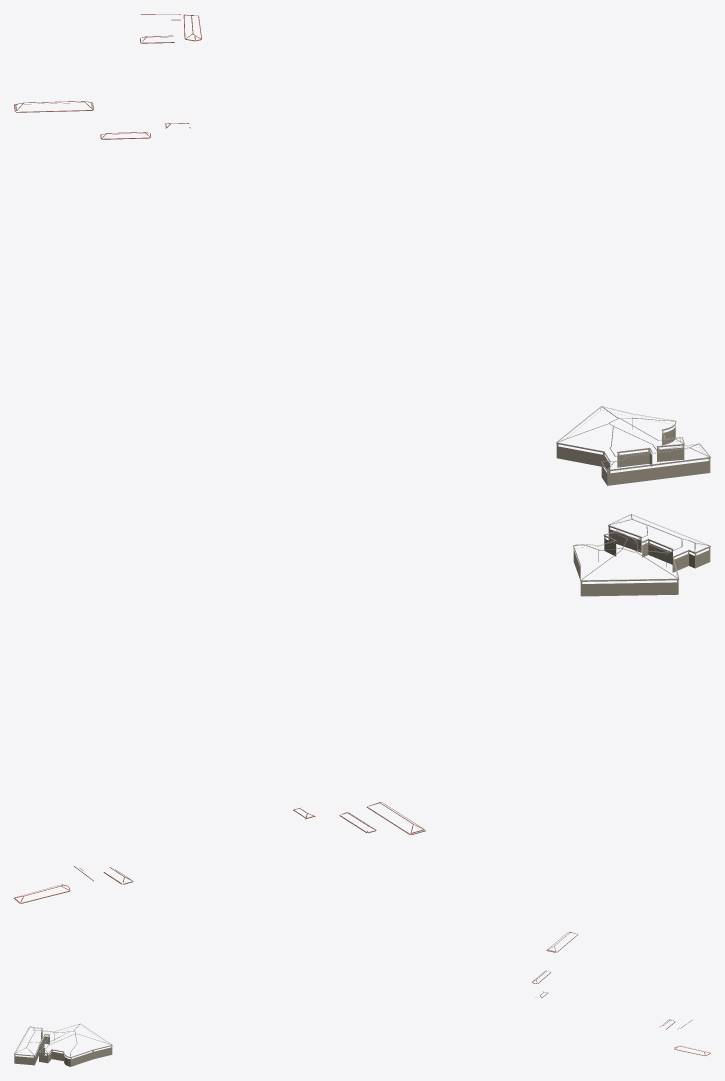
3 renders of one model, top to bottom at view 1: azimuth 30°, elevation 25°; view 2: azimuth 150°, elevation 25°; view 3: azimuth 270°, elevation 25°, orthographic. The views are drawn at different scales.
Visible parts, largest first — view 1: detail; view 2: detail; view 3: detail.
Boxes of the visible parts, box(x1,y1,x2,y2) form: detail: box(14, 14, 710, 485); detail: box(14, 514, 710, 903); detail: box(14, 932, 710, 1066).
Bounding box in the file's own units: 135 × 43 × 449.
